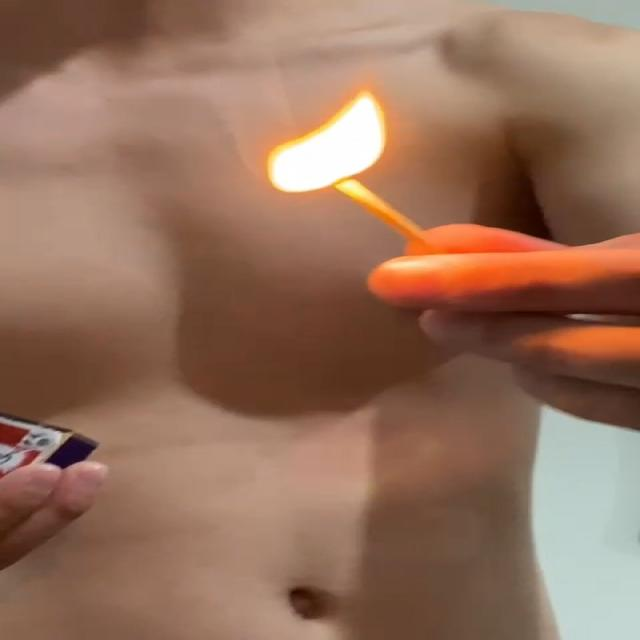fogo-ypXI: (266, 82, 390, 194)
